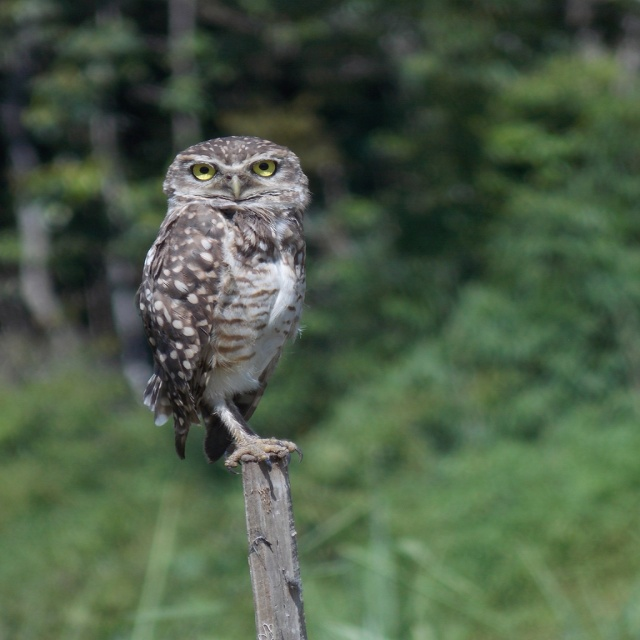Owl: (133, 136, 313, 474)
